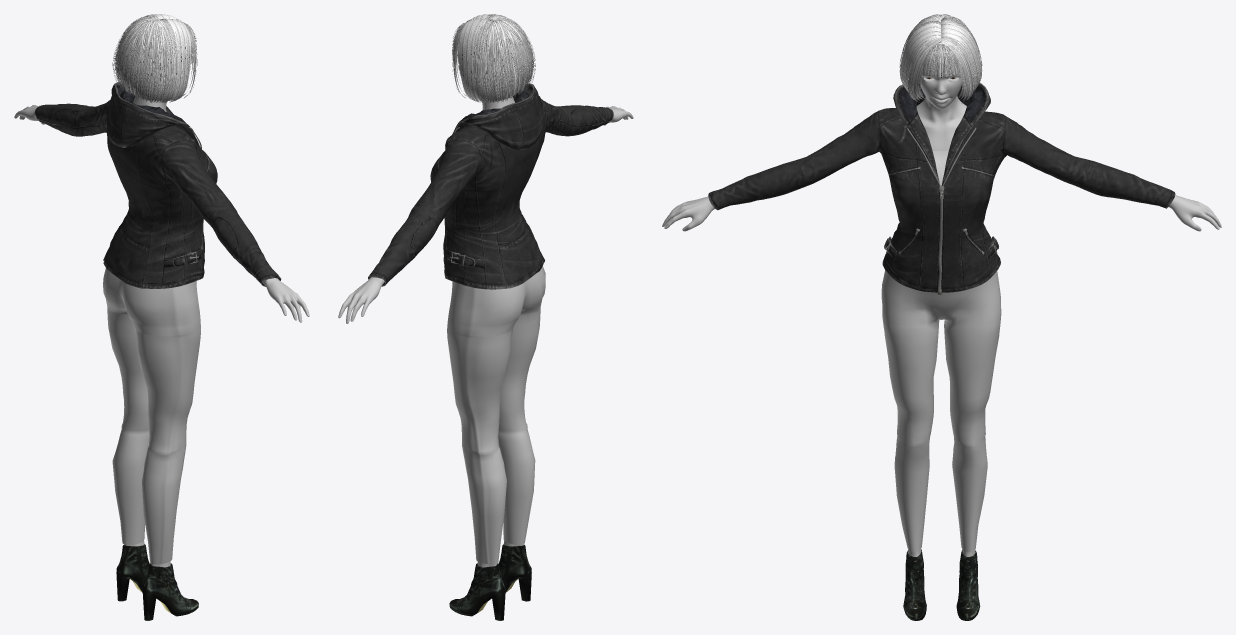
Rendered from Bruna.fbx.
3 renders of one model, left to right at view 1: azimuth 30°, elevation 25°; view 2: azimuth 150°, elevation 25°; view 3: azimuth 270°, elevation 25°, orthographic.
Parts seen in each view (by area): view 1: JaquetaM03, CalcaF01, CabeloBruna, BotaM04, Bruna; view 2: JaquetaM03, CalcaF01, CabeloBruna, BotaM04, Bruna; view 3: JaquetaM03, CalcaF01, CabeloBruna, Bruna, BotaM04.
Boxes of the visible parts, left/top/right/bottom form: JaquetaM03: left=35, top=82, right=281, bottom=288; CalcaF01: left=103, top=268, right=200, bottom=564; CabeloBruna: left=112, top=14, right=197, bottom=102; BotaM04: left=116, top=544, right=198, bottom=620; Bruna: left=14, top=54, right=309, bottom=567; JaquetaM03: left=368, top=83, right=613, bottom=289; CalcaF01: left=447, top=266, right=545, bottom=564; CabeloBruna: left=452, top=14, right=535, bottom=103; BotaM04: left=449, top=544, right=531, bottom=620; Bruna: left=338, top=49, right=633, bottom=567; JaquetaM03: left=708, top=82, right=1175, bottom=294; CalcaF01: left=881, top=270, right=1001, bottom=552; CabeloBruna: left=899, top=14, right=982, bottom=102; Bruna: left=662, top=62, right=1221, bottom=556; BotaM04: left=903, top=549, right=980, bottom=620.
Bounding box in the file's own units: 34.12 × 208 × 179.
